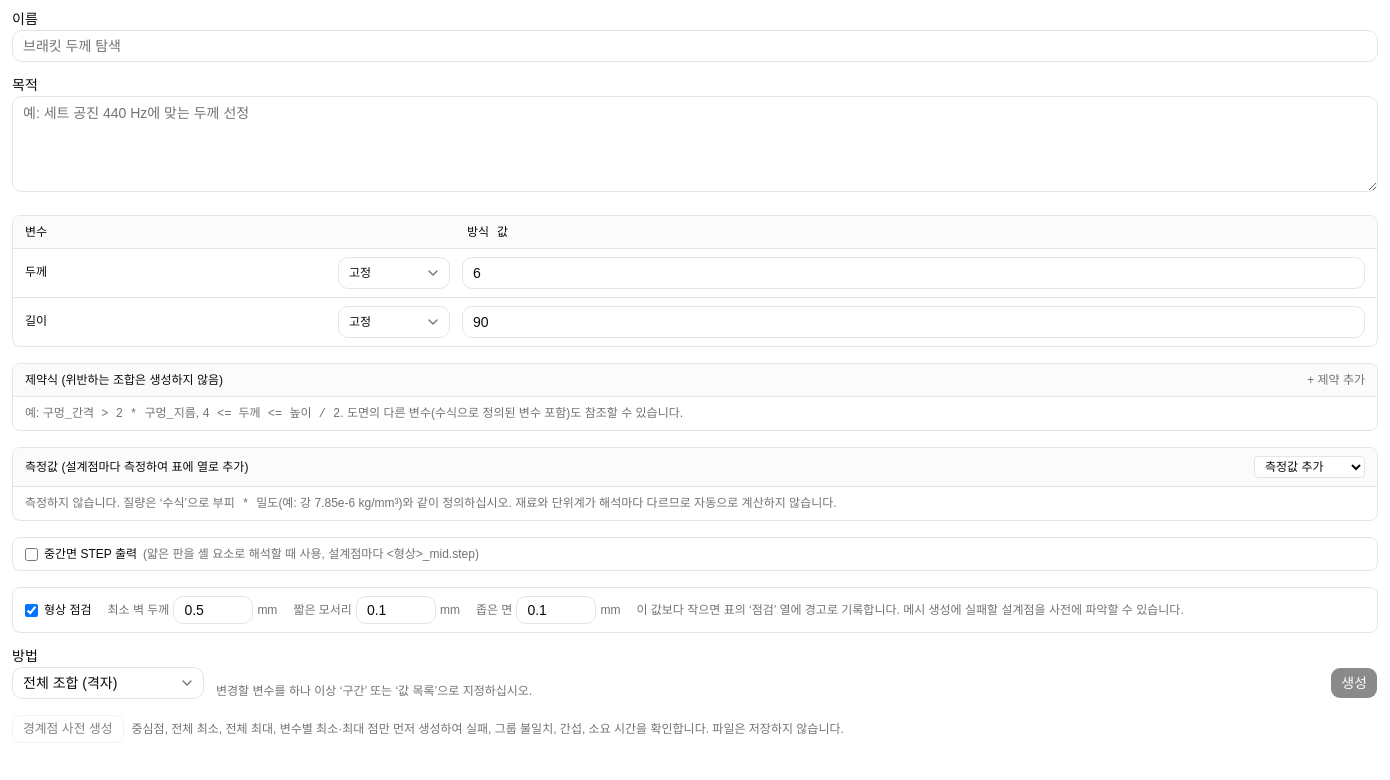
Scenario: 변수에 범위를 주면 설계점 개수를 먼저 보여 준다
Expected: the text "변경할 변수를 하나 이상 ‘구간’ 또는 ‘값 목록’으로 지정하십시오." is shown, [216,683,532,699]
Note: [0] 두께 행의 방식 · [1] 길이 행 · [2] 방법
Click the 1st dropdown labelled "고정" at (394, 273), box [338,257,450,289]
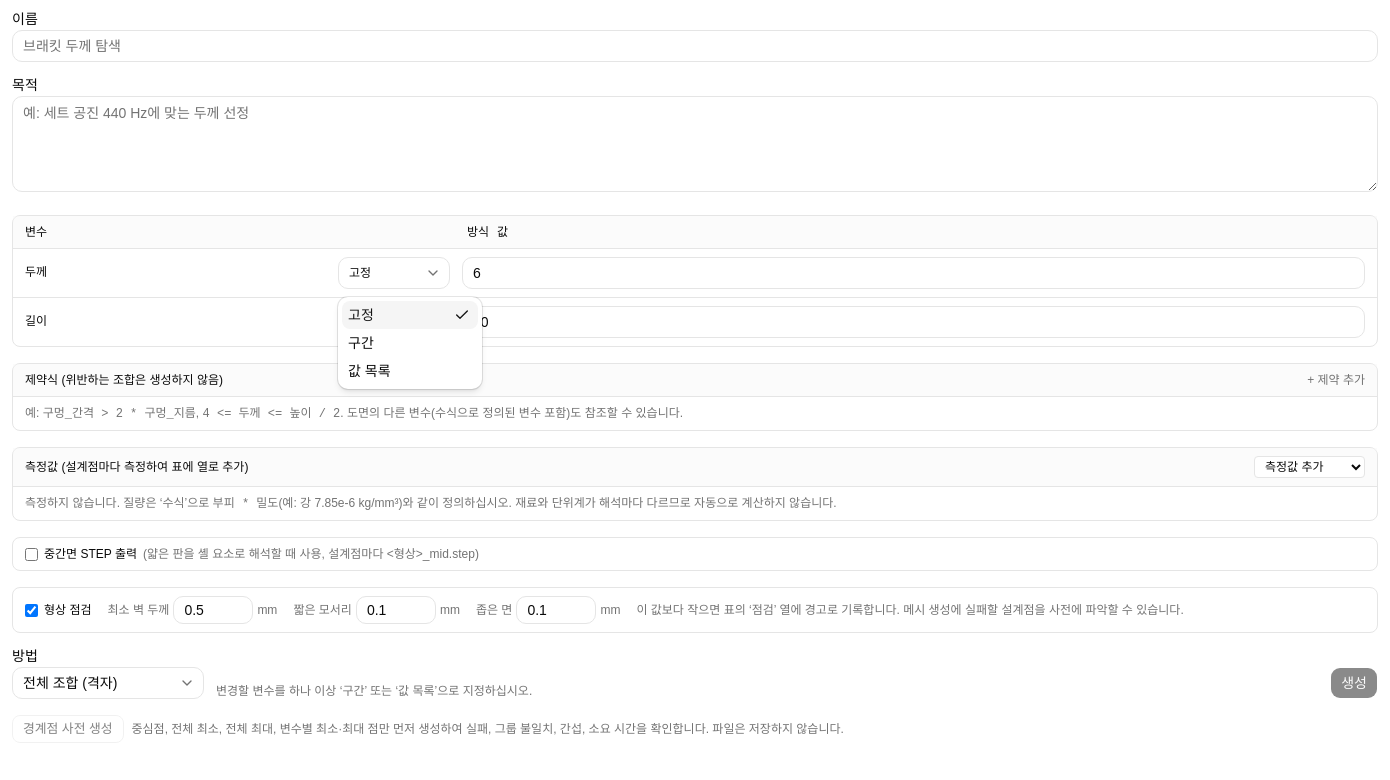
Click the option "값 목록" at (369, 371), box [348,363,390,379]
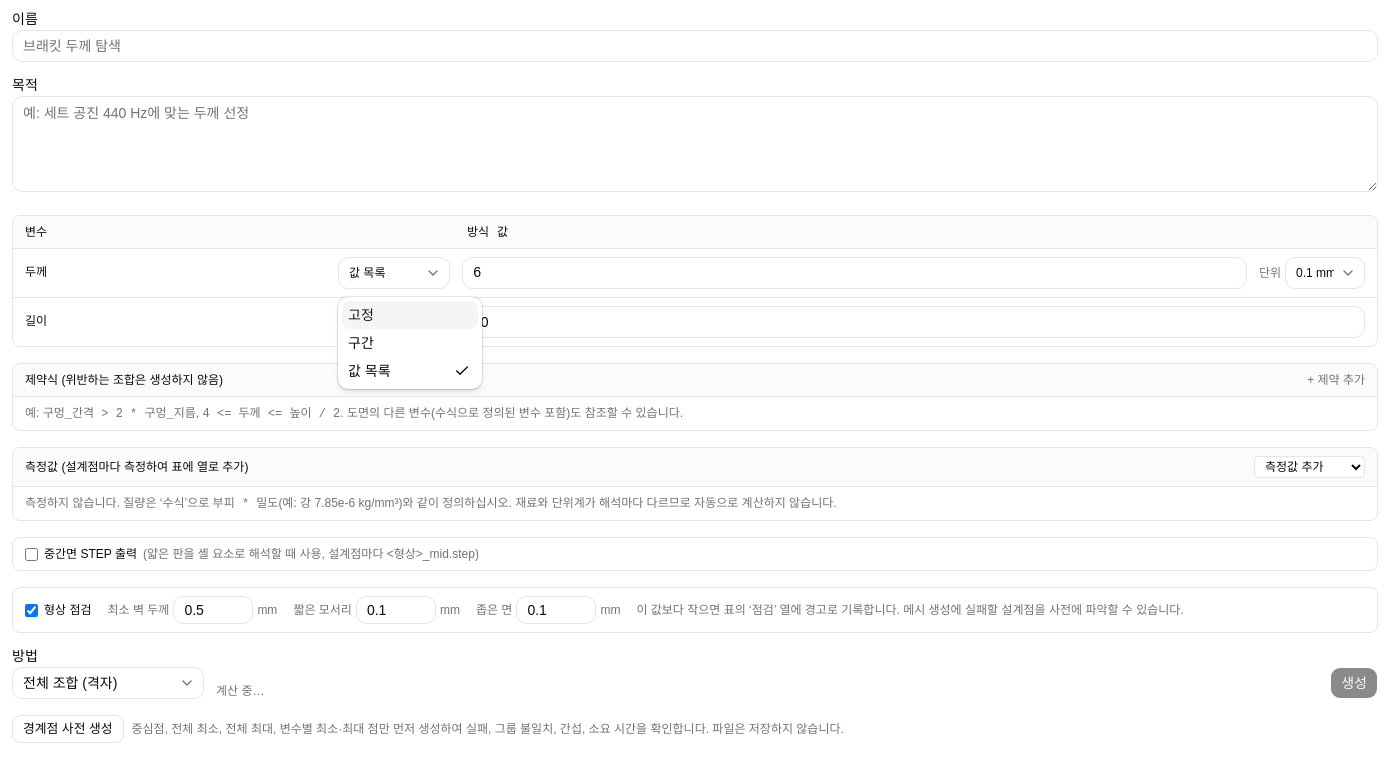
Replace the text in the field named "두께 값 목록" with "4, 8, 12" at (854, 273), box [462,257,1247,289]
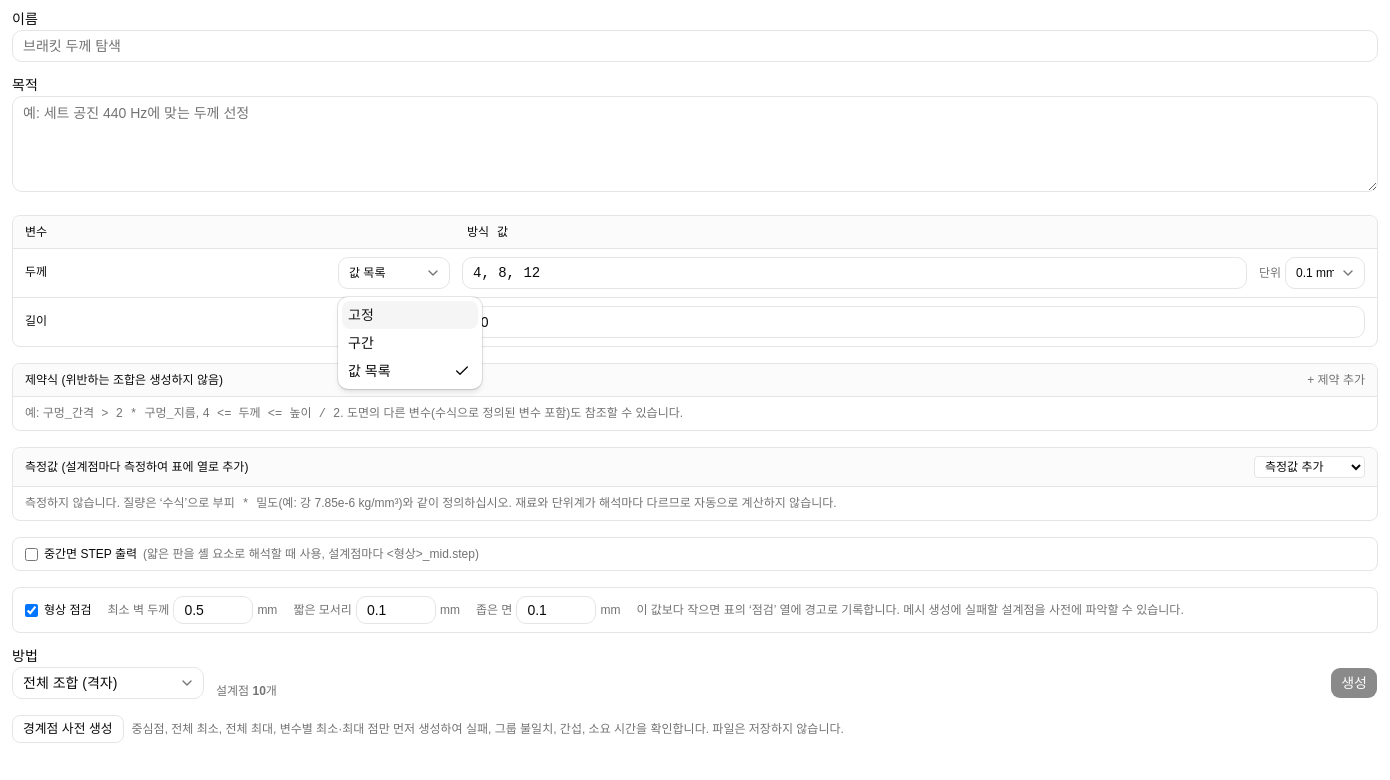
Result: the text "10" is shown at [252,684,266,698]
